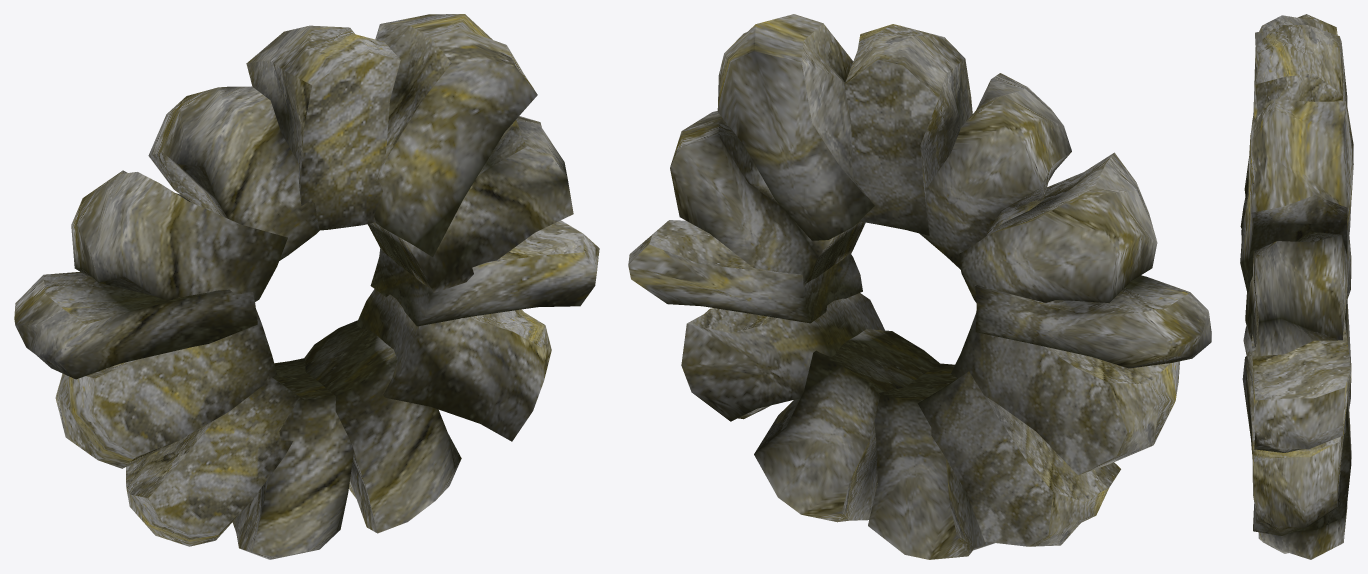
Rendered from enchanted_stone.glb.
3 views of the same model, side by side, from view 1: azimuth 30°, elevation 25°; view 2: azimuth 150°, elevation 25°; view 3: azimuth 270°, elevation 25° (orthographic). The views are drawn at different scales.
Parts seen in each view (by area): view 1: enchanted_stone_small; view 2: enchanted_stone_small; view 3: enchanted_stone_small.
Part boxes in pixels (bbox=[...]): enchanted_stone_small: bbox=[14, 14, 599, 559]; enchanted_stone_small: bbox=[628, 14, 1211, 559]; enchanted_stone_small: bbox=[1240, 14, 1353, 559].
Bounding box in the file's own units: 0.4379 × 0.3787 × 0.0774.
1 material, 1 textured.
